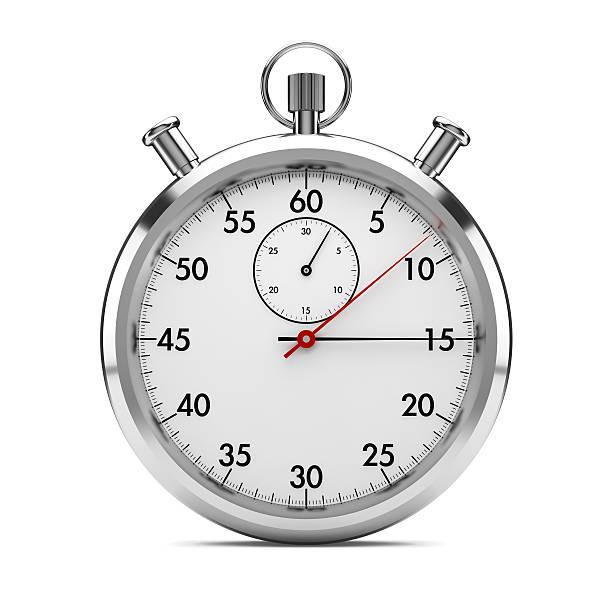clock: (99, 139, 518, 548)
